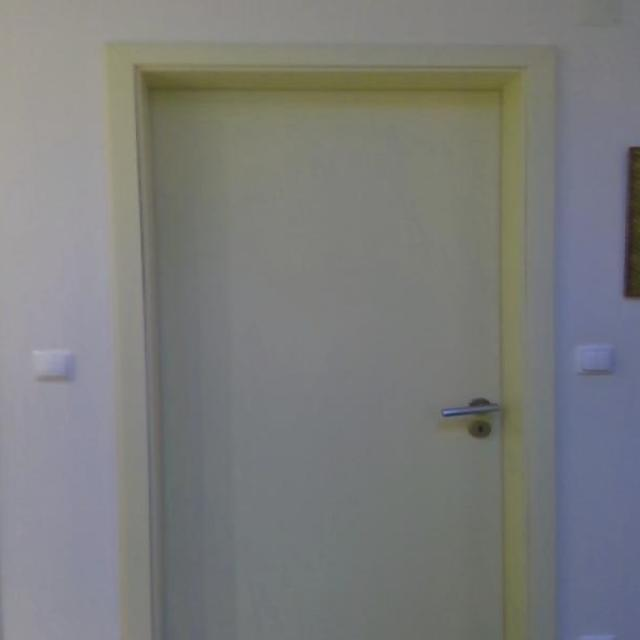door: (139, 69, 513, 639)
